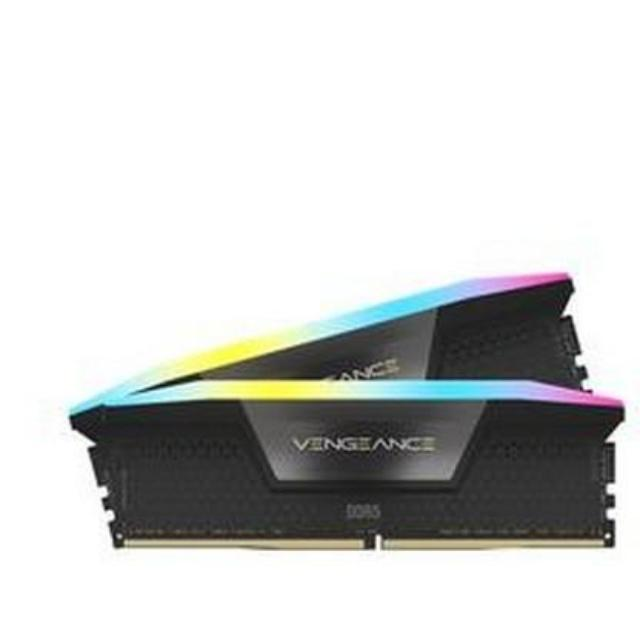RAM: (49, 270, 640, 578)
